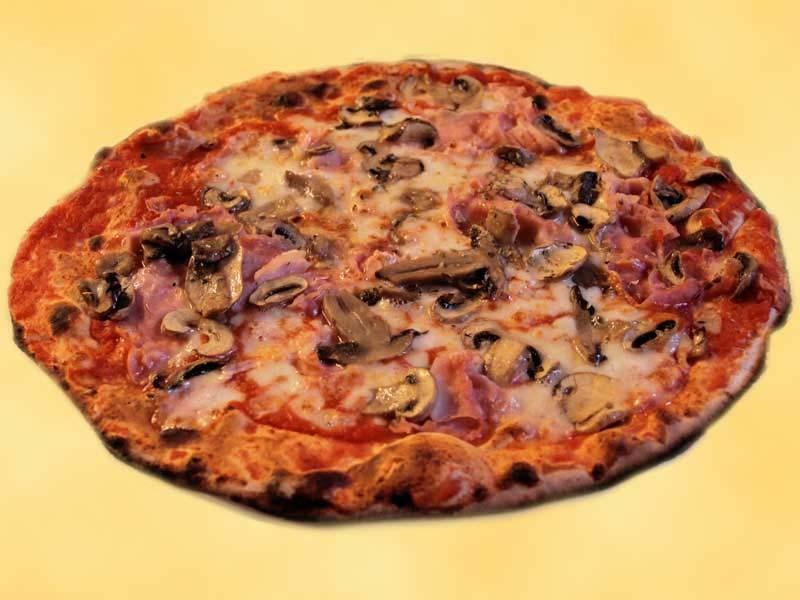champignon: (314, 289, 426, 368), (454, 313, 557, 389), (365, 368, 447, 430), (243, 275, 321, 308)
